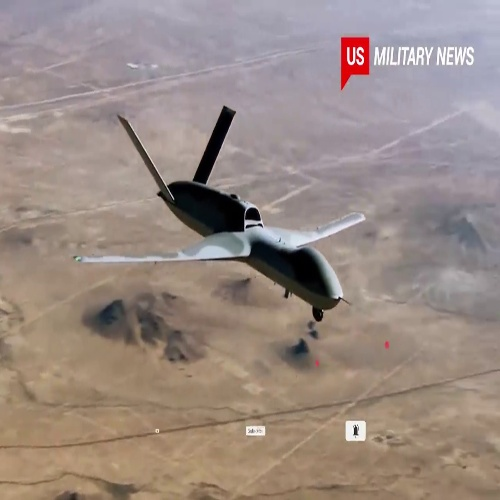uav: (76, 107, 366, 322)
